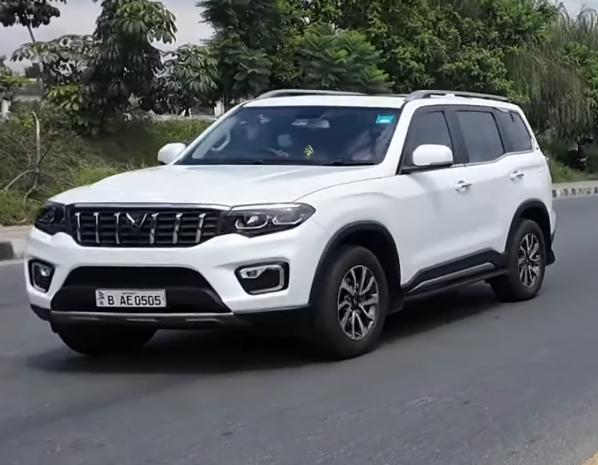SUV: (25, 81, 559, 364)
